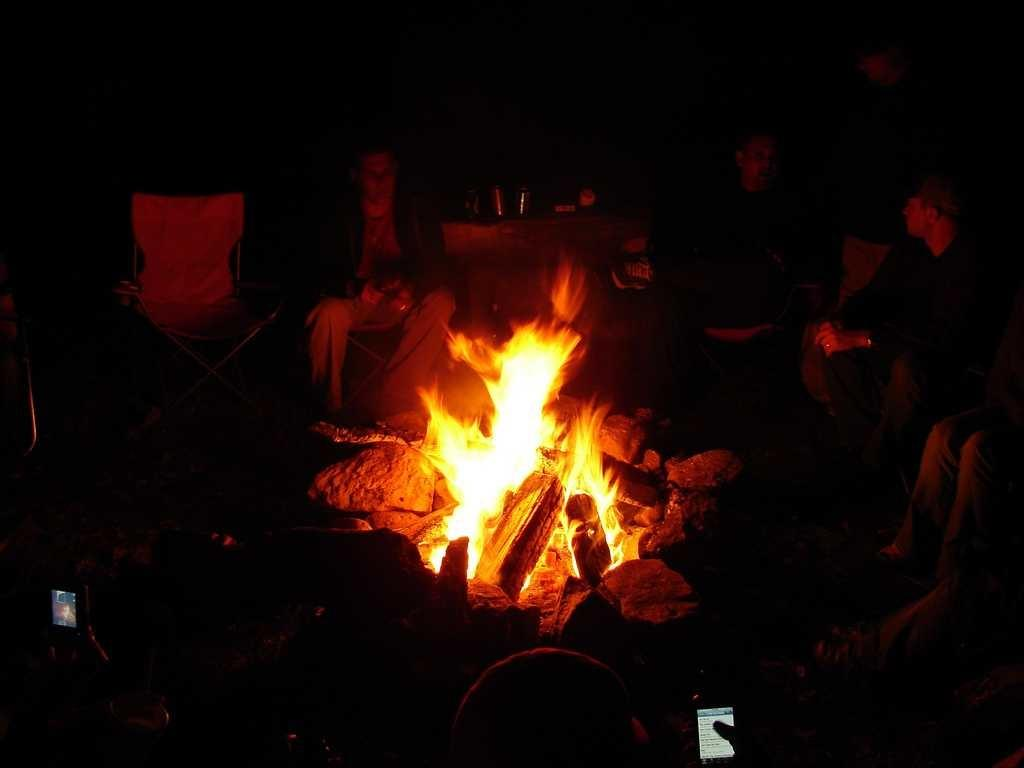fire: (504, 340, 554, 470), (448, 446, 488, 518)
